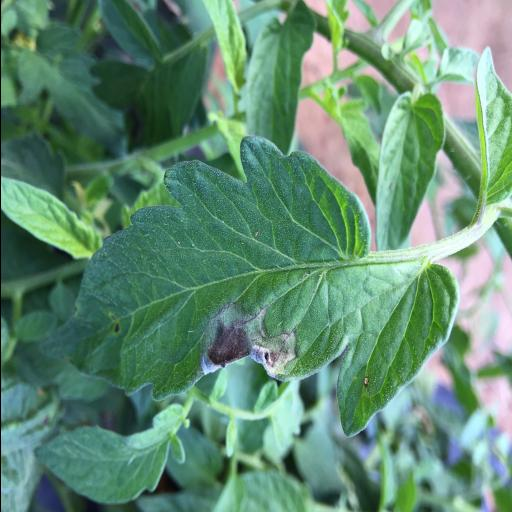disease_tomato: (39, 135, 371, 401)
